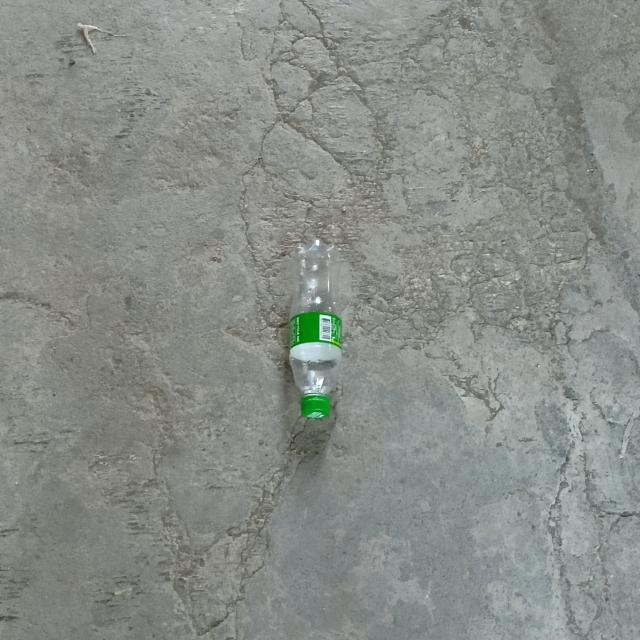Bottle: (289, 239, 348, 419)
